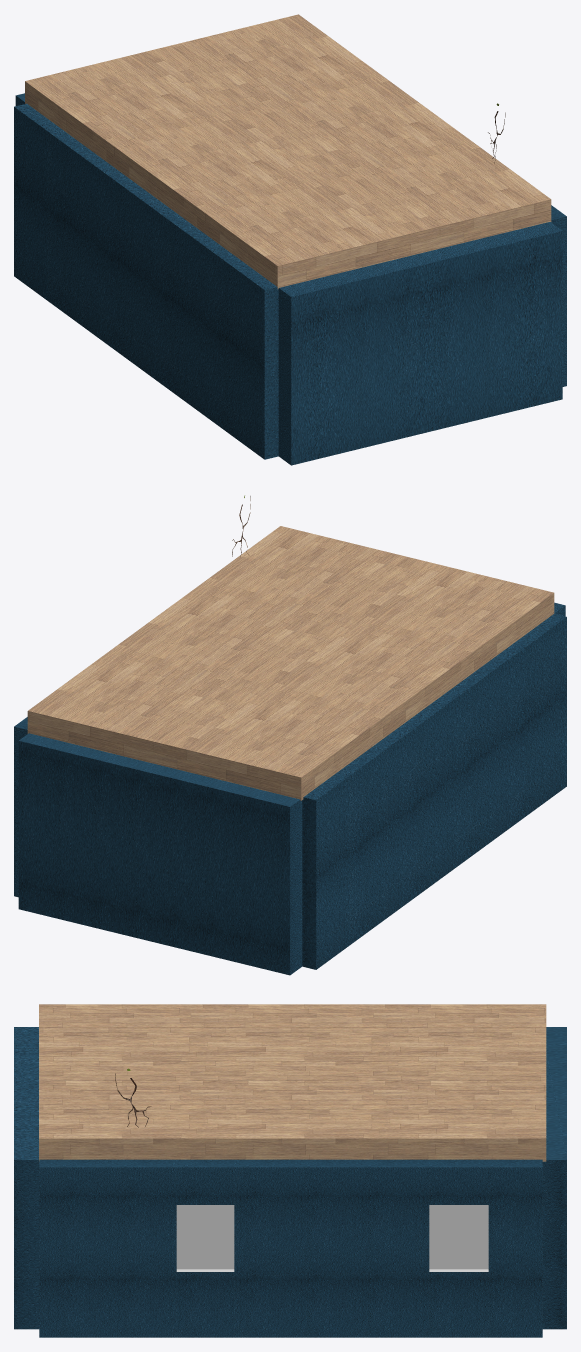
Rendered from BWP bedroom.fbx.
3 renders of one model, top to bottom at view 1: azimuth 30°, elevation 25°; view 2: azimuth 150°, elevation 25°; view 3: azimuth 270°, elevation 25°, orthographic.
Visible parts, largest first — view 1: Cube.026, Cube, Cube.001, Cube.004; view 2: Cube.026, Cube.002, Cube.001, Cube.004; view 3: Cube.004, Cube.026, Cube, Cube.002, Cube.006, Cube.005.
Boxes of the visible parts, left/top/right/bottom form: Cube.026: left=25, top=14, right=551, bottom=288; Cube: left=278, top=222, right=562, bottom=465; Cube.001: left=14, top=103, right=278, bottom=459; Cube.004: left=551, top=205, right=566, bottom=386; Cube.026: left=27, top=526, right=554, bottom=800; Cube.002: left=18, top=733, right=302, bottom=975; Cube.001: left=302, top=613, right=566, bottom=969; Cube.004: left=14, top=717, right=27, bottom=897; Cube.004: left=39, top=1159, right=542, bottom=1337; Cube.026: left=39, top=1004, right=546, bottom=1161; Cube: left=14, top=1027, right=39, bottom=1329; Cube.002: left=542, top=1027, right=566, bottom=1329; Cube.006: left=429, top=1205, right=488, bottom=1269; Cube.005: left=176, top=1205, right=234, bottom=1269.
Bounding box in the file's own units: 5831 × 4719 × 9204.
